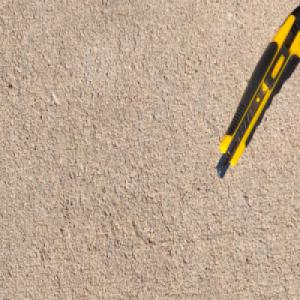Cutter: (214, 5, 300, 179)
